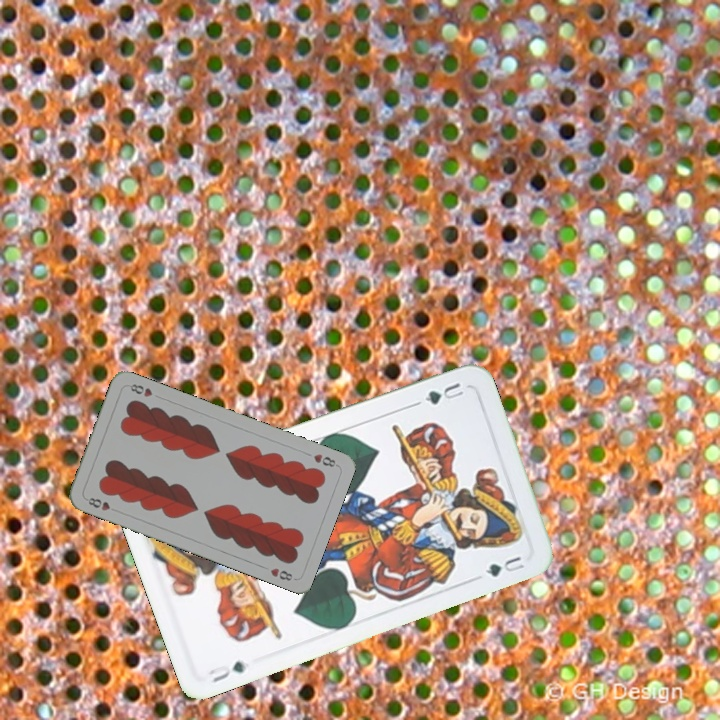GU: (420, 378, 466, 408), (204, 657, 249, 685)
H8: (309, 450, 340, 470), (84, 493, 113, 513)
